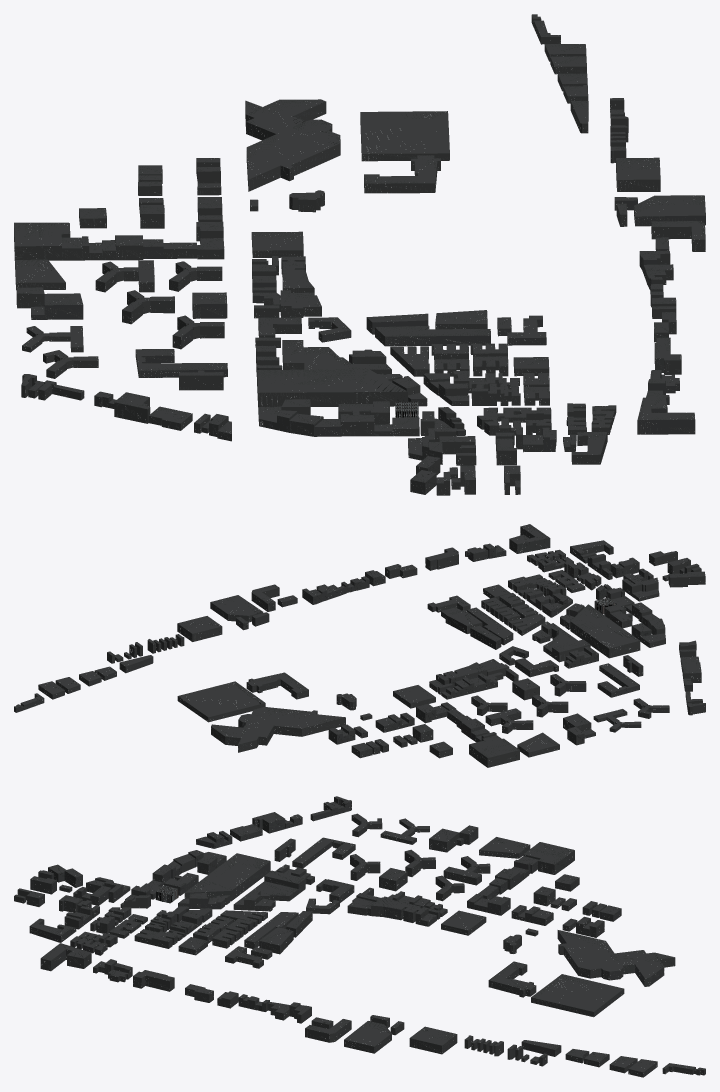
The model's file is City_Collider.fbx.
3 renders of one model, top to bottom at view 1: azimuth 30°, elevation 25°; view 2: azimuth 150°, elevation 25°; view 3: azimuth 270°, elevation 25°, orthographic. The views are drawn at different scales.
Visible parts, largest first — view 1: Buildings_Colliders; view 2: Buildings_Colliders; view 3: Buildings_Colliders.
Boxes of the visible parts, x1,y1,x2,y2 form: Buildings_Colliders: (14,14,705,495); Buildings_Colliders: (14,524,705,767); Buildings_Colliders: (14,796,705,1077).
Size of the model in its own units: 101418 by 1820 by 108751.
